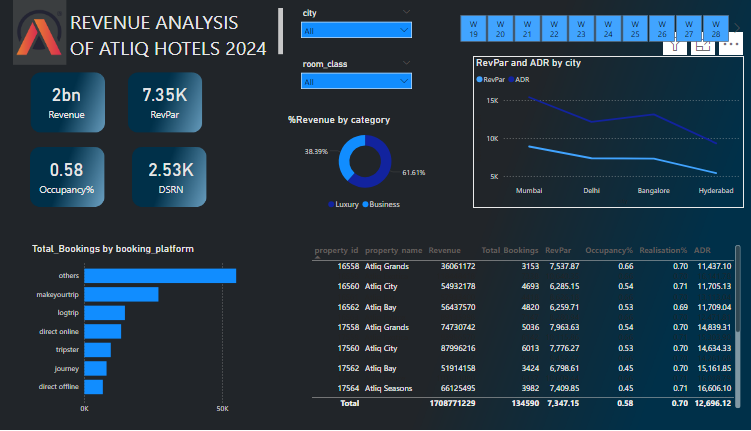

Layout of this report page (visuals, bound fields, positions):
{"tool":"powerbi","page":{"name":"KPI Dashboard","canvas":[1280,720],"ordinal":0},"visuals":[{"type":"card","fields":{"Values":["dim_date.Revenue"]},"box":[31.9,127.7,157.9,75.6],"z":0},{"type":"card","fields":{"Values":["dim_date.RevPar"]},"box":[189.8,127.7,168,75.6],"z":1000},{"type":"card","fields":{"Values":["dim_date.Occupancy%"]},"box":[31.9,250.3,157.9,82.3],"z":2000},{"type":"card","fields":{"Values":["dim_date.DSRN"]},"box":[211.7,250.3,146.1,82.3],"z":3000},{"type":"barChart","fields":{"Y":["dim_date.Total_Bookings"],"Category":["fact_bookings.booking_platform"]},"box":[48.7,403.1,383,295.6],"z":4000},{"type":"slicer","fields":{"Values":["dim_hotels.city"]},"box":[492.2,8.4,204.9,75.6],"z":5000},{"type":"slicer","fields":{"Values":["dim_rooms.room_class"]},"box":[492.2,94.1,204.9,75.6],"z":6000},{"type":"tableEx","fields":{"Values":["dim_hotels.property_id","dim_hotels.property_name","dim_date.Revenue","dim_date.Total_Bookings","dim_date.RevPar","dim_date.Occupancy%","dim_date.Realisation%","dim_date.ADR"]},"box":[514,403.1,725.7,282.2],"z":7000},{"type":"donutChart","title":"%Revenue by category","fields":{"Y":["dim_date.Revenue"],"Category":["dim_hotels.category"]},"box":[475.4,188.1,267.1,171.3],"z":8000},{"type":"lineChart","fields":{"Y":["dim_date.RevPar","dim_date.ADR"],"Category":["dim_hotels.city"]},"box":[787.8,94.1,451.9,252],"z":9000},{"type":"slicer","fields":{"Values":["dim_date.week no"]},"box":[742.5,18.5,497.2,57.1],"z":10000},{"type":"textbox","title":"REVENUE ANALYSIS OF ATLIQ HOTELS 2023","box":[110.9,8.4,364.5,99.1],"z":11000},{"type":"image","box":[21.8,0,89,107.5],"z":11001}]}

Visuals, with their boxes in screenshot pixels (x1, y1, x2, y2), scaled from the page's 1280x720 canvas onto the 751x431 screenshot:
card - dim_date.Revenue: BBox(19, 76, 111, 122)
card - dim_date.RevPar: BBox(111, 76, 210, 122)
card - dim_date.Occupancy%: BBox(19, 150, 111, 199)
card - dim_date.DSRN: BBox(124, 150, 210, 199)
barChart - dim_date.Total_Bookings x fact_bookings.booking_platform: BBox(29, 241, 253, 418)
slicer - dim_hotels.city: BBox(289, 5, 409, 50)
slicer - dim_rooms.room_class: BBox(289, 56, 409, 102)
tableEx - dim_hotels.property_id x dim_hotels.property_name: BBox(302, 241, 727, 410)
"%Revenue by category" donutChart: BBox(279, 113, 436, 215)
lineChart - dim_date.RevPar x dim_date.ADR: BBox(462, 56, 727, 207)
slicer - dim_date.week no: BBox(436, 11, 727, 45)
"REVENUE ANALYSIS OF ATLIQ HOTELS 2023" textbox: BBox(65, 5, 279, 64)
image: BBox(13, 0, 65, 64)
